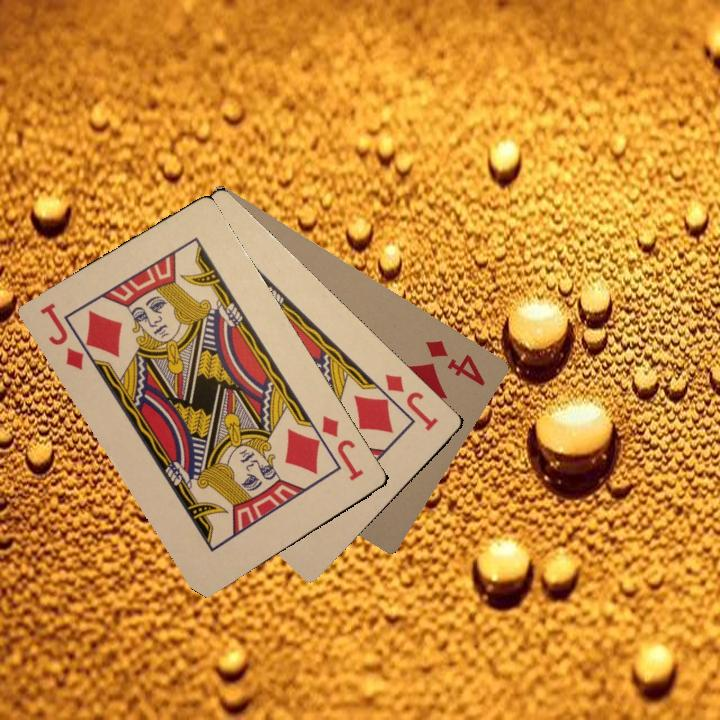4d: (421, 335, 488, 389)
Jd: (381, 369, 440, 434), (36, 299, 86, 374), (317, 412, 366, 484)
